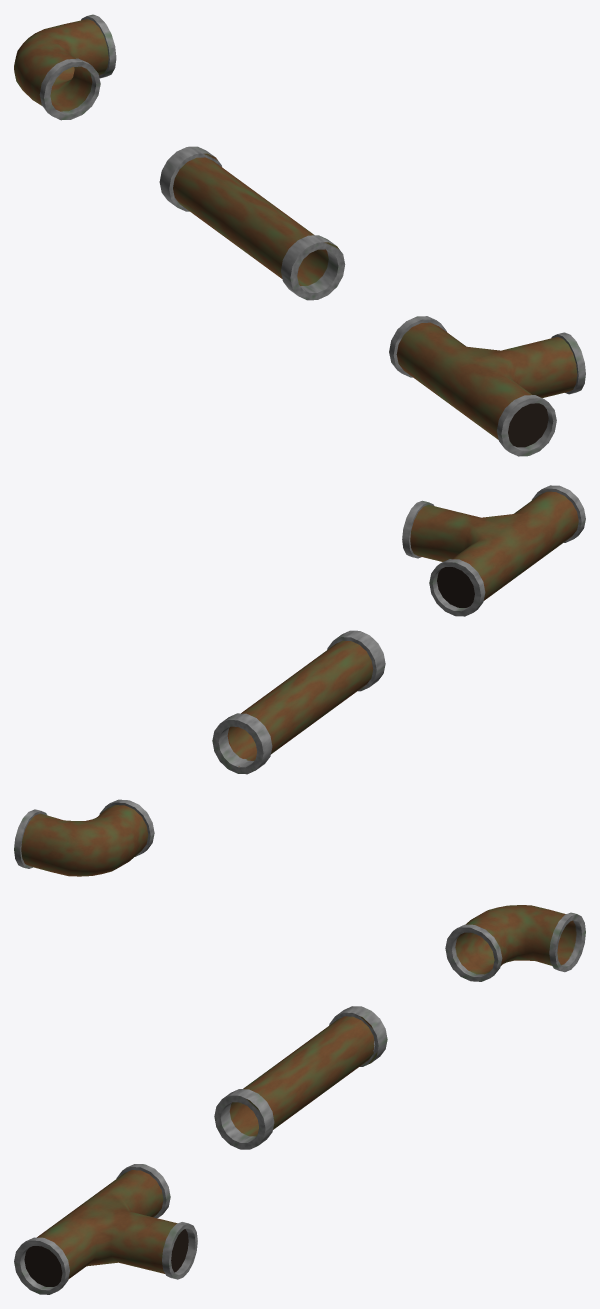
The model's file is Pipe.fbx.
The picture shows the model from 3 angles, top to bottom: view 1: azimuth 30°, elevation 25°; view 2: azimuth 150°, elevation 25°; view 3: azimuth 330°, elevation 25°; orthographic projection. The views are drawn at different scales.
Visible parts, largest first — view 1: Pipe_3, Pipe_1, Pipe_2; view 2: Pipe_3, Pipe_1, Pipe_2; view 3: Pipe_3, Pipe_1, Pipe_2.
Part boxes in pixels (x1=…): Pipe_3: x1=389, y1=316, x2=585, y2=456; Pipe_1: x1=159, y1=146, x2=345, y2=300; Pipe_2: x1=14, y1=14, x2=116, y2=120; Pipe_3: x1=402, y1=485, x2=585, y2=616; Pipe_1: x1=212, y1=630, x2=385, y2=774; Pipe_2: x1=14, y1=799, x2=154, y2=876; Pipe_3: x1=14, y1=1164, x2=197, y2=1294; Pipe_1: x1=214, y1=1006, x2=387, y2=1149; Pipe_2: x1=445, y1=905, x2=585, y2=981.
Bounding box in the file's own units: 0.3288 × 0.1458 × 2.34.
1 material, 1 textured.
